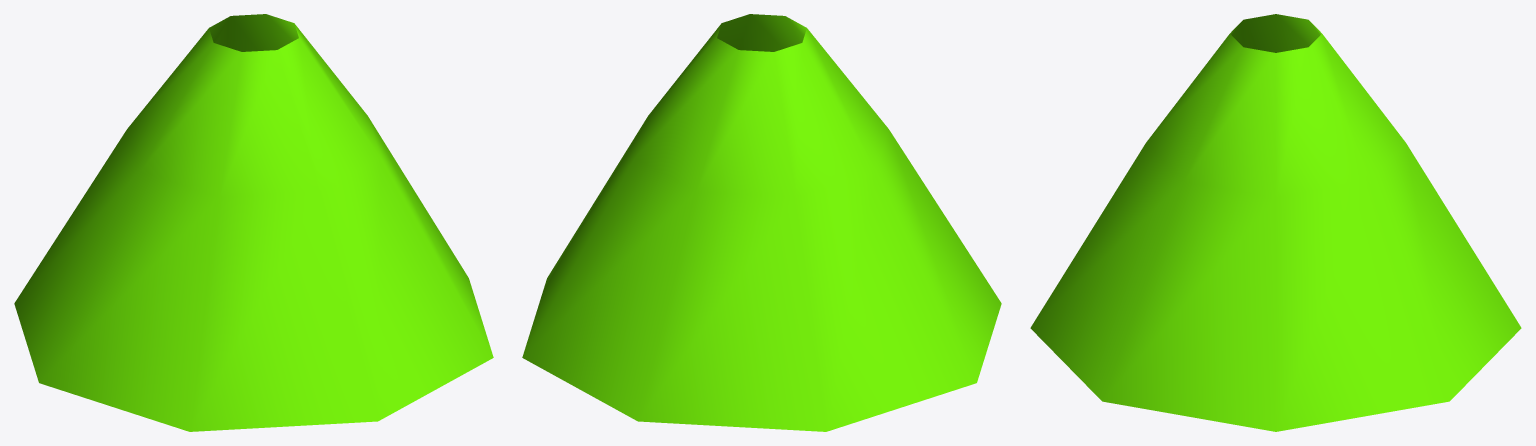
Rendered from PlayerProjectile_Outer.fbx.
The picture shows the model from 3 angles, left to right: view 1: azimuth 30°, elevation 25°; view 2: azimuth 150°, elevation 25°; view 3: azimuth 270°, elevation 25°; orthographic projection.
Parts seen in each view (by area): view 1: PlayerProjectile_Outer; view 2: PlayerProjectile_Outer; view 3: PlayerProjectile_Outer.
Part boxes in pixels (x1,y1,x2,y2): PlayerProjectile_Outer: [14, 14, 493, 431]; PlayerProjectile_Outer: [522, 14, 1001, 431]; PlayerProjectile_Outer: [1030, 14, 1521, 431].
Bounding box in the file's own units: 208 × 138 × 208.
